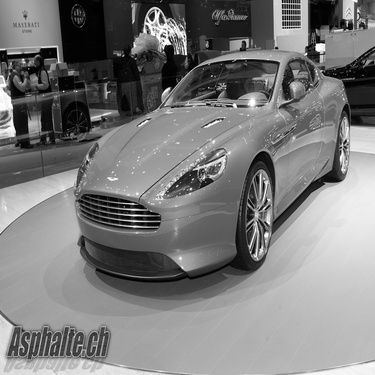car: (70, 43, 353, 291), (308, 37, 370, 124), (3, 89, 18, 148)
